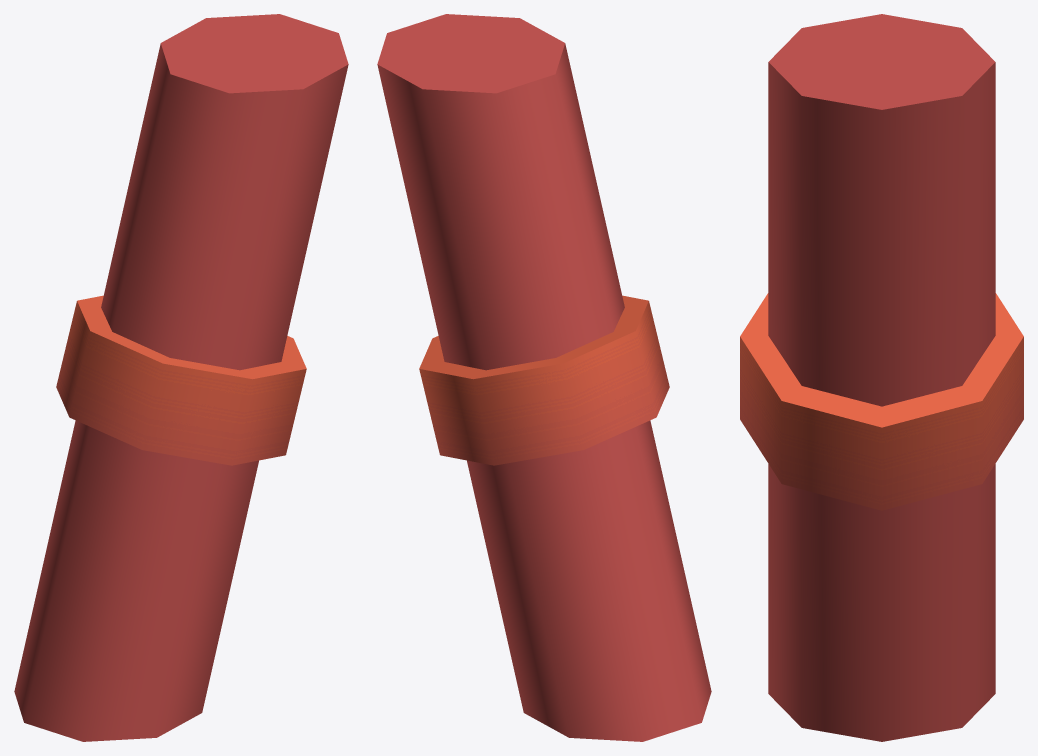
The model's file is support-small-skew.glb.
3 views of the same model, side by side, from view 1: azimuth 30°, elevation 25°; view 2: azimuth 150°, elevation 25°; view 3: azimuth 270°, elevation 25° (orthographic). The views are drawn at different scales.
Visible parts, largest first — view 1: support-small-skew; view 2: support-small-skew; view 3: support-small-skew.
Boxes of the visible parts, <box> form: support-small-skew: <box>14,14,348,741</box>; support-small-skew: <box>377,14,711,741</box>; support-small-skew: <box>740,14,1023,741</box>.
Bounding box in the file's own units: 0.5376 × 1 × 0.3596.
Materials: 1 (1 with a texture image).
